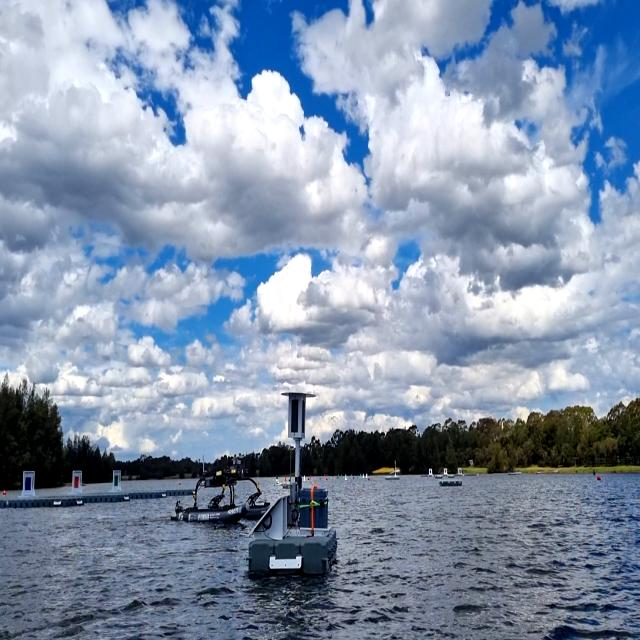led: (290, 397, 300, 436)
